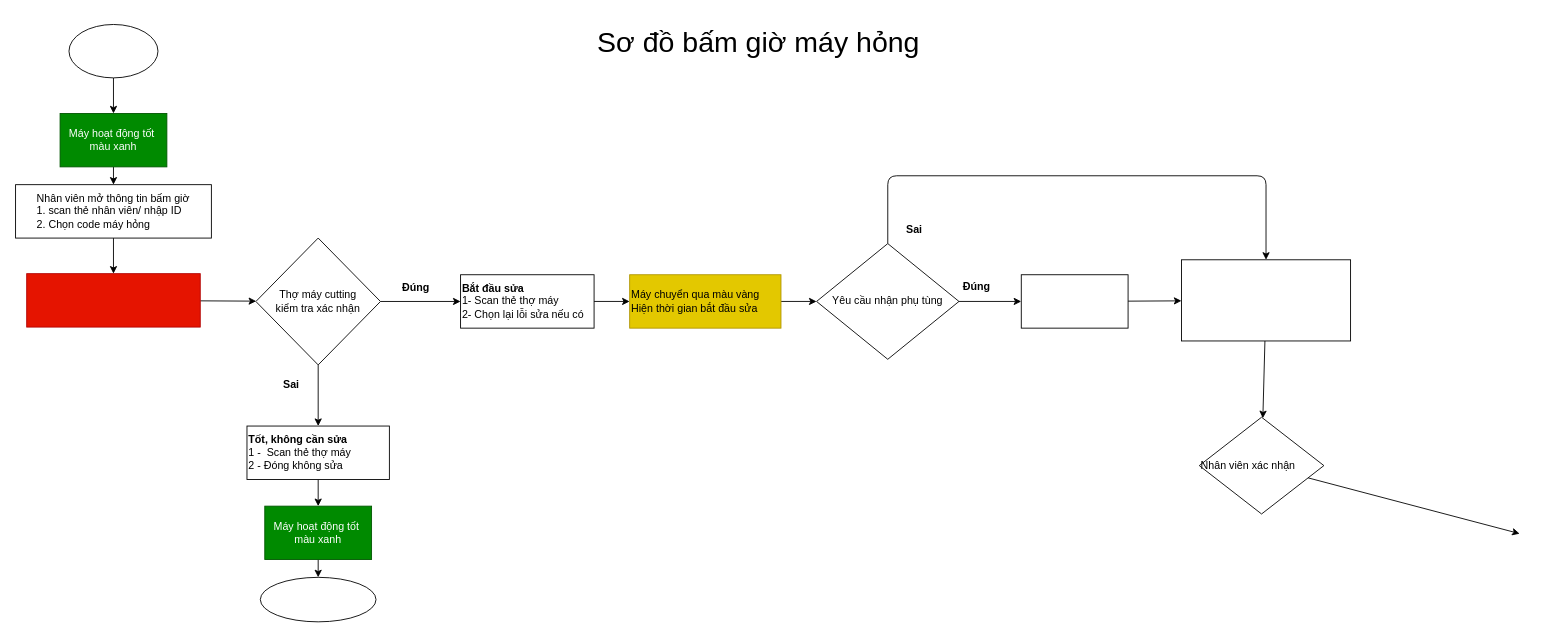
Some shapes in this 1542 by 637 pixel diagram are drawn without their labels. Here are the shapes that lost their labels. From the top down, the centre of each, then its label:
At pixel 113 51: "Bấm giờ máy hỏng".
At pixel 113 300: "Máy chuyển sang màu đỏ Hiện thời gian bấm giờ".
At pixel 1074 301: "Yêu cầu Sparepart".
At pixel 1266 300: "Hoàn thành sửa của thợ máy 1- Scan thẻ thợ máy 2- Xác nhận việc hoàn thành sửa".
At pixel 317 599: "Kết thúc".
